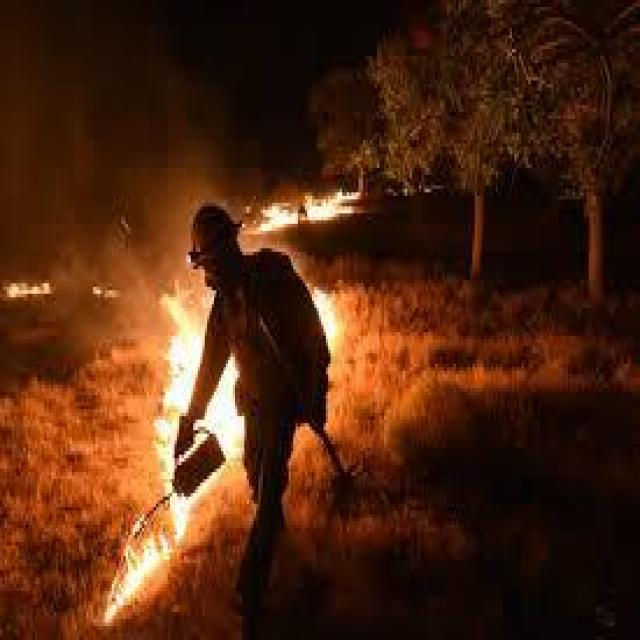fire: (133, 280, 335, 640), (265, 162, 386, 368)
